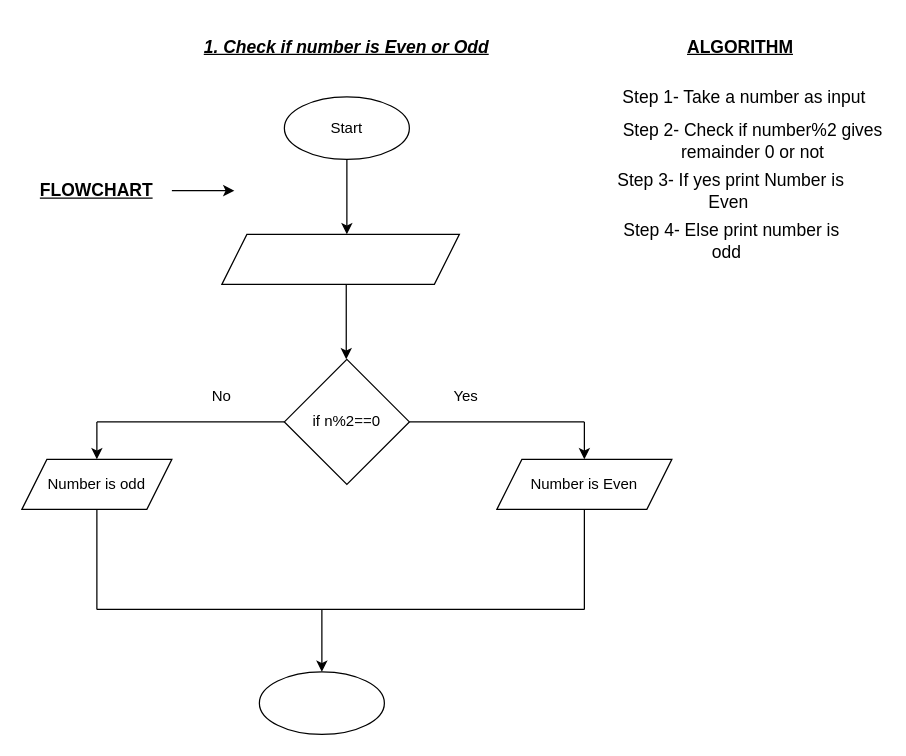
This 906x756 diagram has some shape labels left out. Here are the shapes that lost their labels. From the top down, the centre of each, then its label:
At [340,258]: "Input number n".
At [321,702]: "Stop".
